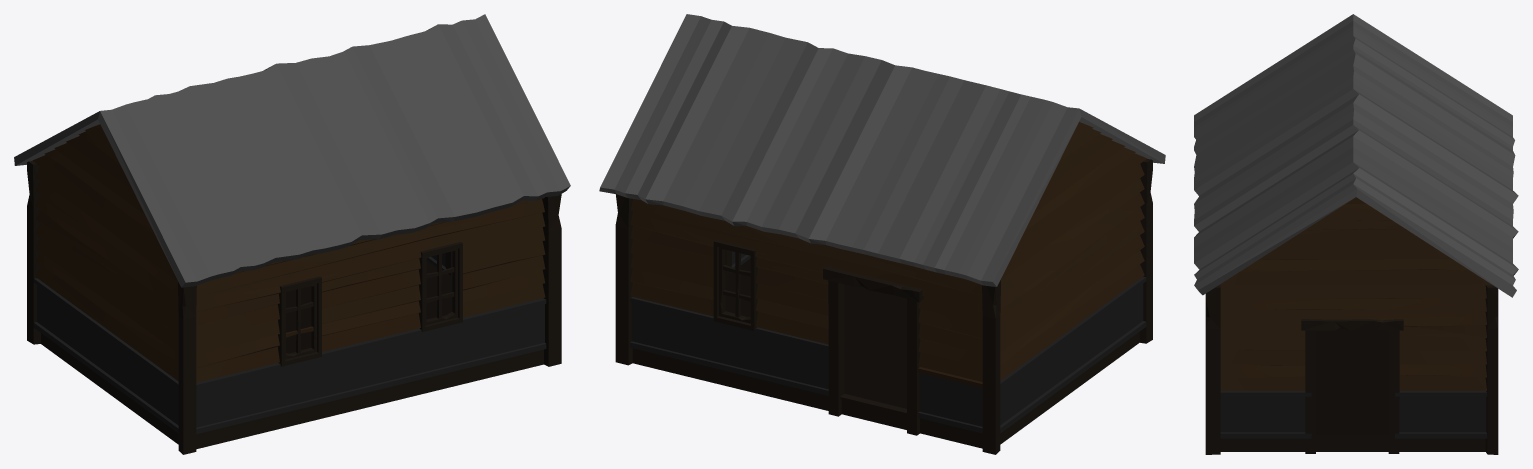
File: SM_House.fbx
3 views of the same model, side by side, from view 1: azimuth 30°, elevation 25°; view 2: azimuth 150°, elevation 25°; view 3: azimuth 270°, elevation 25° (orthographic). The views are drawn at different scales.
Visible parts, largest first — view 1: fuse1; view 2: fuse1; view 3: fuse1.
Boxes of the visible parts, x1,y1,x2,y2 form: fuse1: (14, 14, 570, 454); fuse1: (599, 14, 1165, 454); fuse1: (1194, 14, 1518, 454).
Size of the model in its own units: 755 by 532 by 582.
